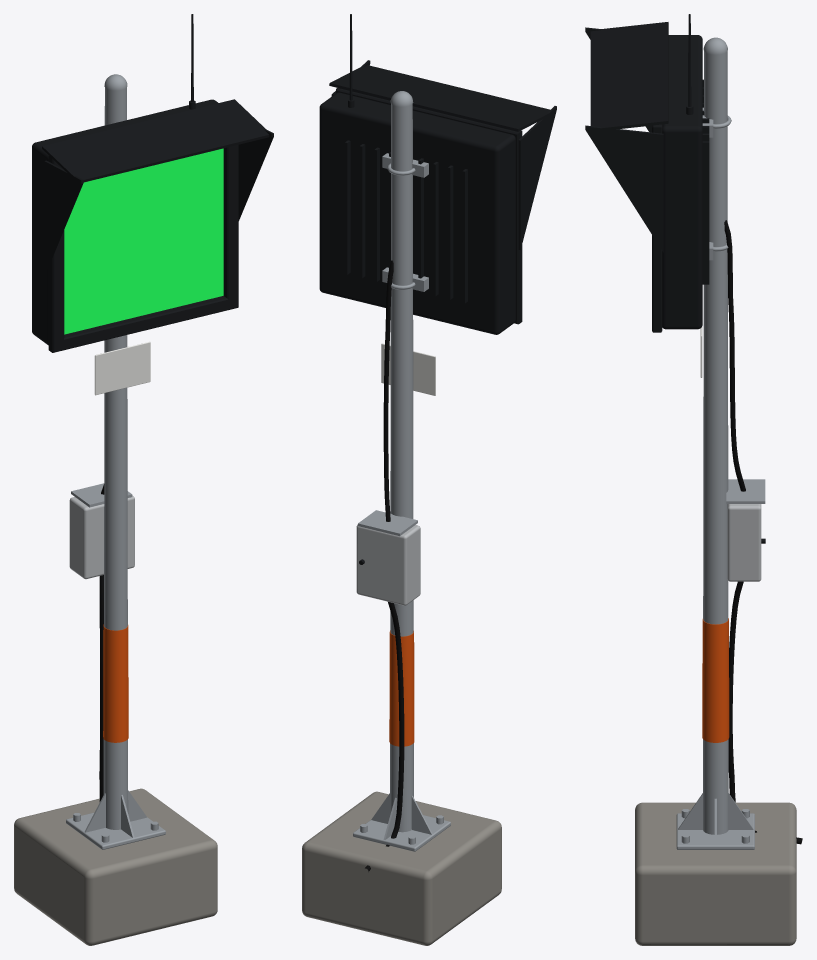
File: marshal.glb
3 renders of one model, left to right at view 1: azimuth 30°, elevation 25°; view 2: azimuth 150°, elevation 25°; view 3: azimuth 270°, elevation 25°, orthographic. The views are drawn at different scales.
Parts seen in each view (by area): view 1: Экран, Бетонное основание, Козырёк, Стойка, Рамка экрана, Корпус панели, Блок управления, Полоса видимости, Щёчка козырька левая, Табличка поста, Опорная плита, Щёчка козырька правая (+2 smaller); view 2: Корпус панели, Бетонное основание, Стойка, Козырёк, Блок управления, Щёчка козырька левая, Полоса видимости, Рамка экрана, Опорная плита, Кабель в землю, Кабель питания, Табличка поста (+8 smaller); view 3: Бетонное основание, Стойка, Корпус панели, Козырёк, Щёчка козырька правая, Полоса видимости, Блок управления, Опорная плита, Кабель питания, Кабель в землю, Ребро охлаждения 9, Рамка экрана (+3 smaller).
Part boxes in pixels (box(x1,y1,x2,y2)): Экран: box(64, 148, 223, 334); Бетонное основание: box(14, 788, 217, 945); Козырёк: box(42, 99, 269, 183); Стойка: box(103, 87, 128, 829); Рамка экрана: box(48, 145, 238, 352); Корпус панели: box(32, 99, 218, 345); Блок управления: box(69, 495, 134, 579); Полоса видимости: box(103, 624, 128, 742); Щёчка козырька левая: box(44, 160, 83, 272); Табличка поста: box(94, 341, 150, 395); Опорная плита: box(66, 812, 165, 849); Щёчка козырька правая: box(238, 129, 273, 220); Корпус панели: box(319, 92, 515, 334); Бетонное основание: box(302, 791, 501, 945); Стойка: box(390, 104, 413, 832); Козырёк: box(329, 65, 554, 131); Блок управления: box(356, 524, 420, 605); Щёчка козырька левая: box(518, 106, 556, 250); Полоса видимости: box(389, 630, 414, 746); Рамка экрана: box(336, 88, 522, 324); Опорная плита: box(353, 815, 450, 851); Кабель в землю: box(365, 602, 404, 871); Кабель питания: box(383, 260, 393, 521); Табличка поста: box(381, 343, 435, 395); Бетонное основание: box(635, 802, 796, 945); Стойка: box(703, 51, 728, 834); Корпус панели: box(662, 35, 702, 329); Козырёк: box(590, 22, 668, 132); Щёчка козырька правая: box(585, 125, 663, 252); Полоса видимости: box(702, 618, 729, 742); Блок управления: box(727, 504, 761, 581); Опорная плита: box(676, 813, 754, 849); Кабель питания: box(724, 220, 745, 491); Кабель в землю: box(728, 581, 802, 844); Ребро охлаждения 9: box(702, 141, 709, 284); Рамка экрана: box(652, 124, 662, 332).
Bounding box in the file's own units: 0.9 × 3.95 × 0.8327.
